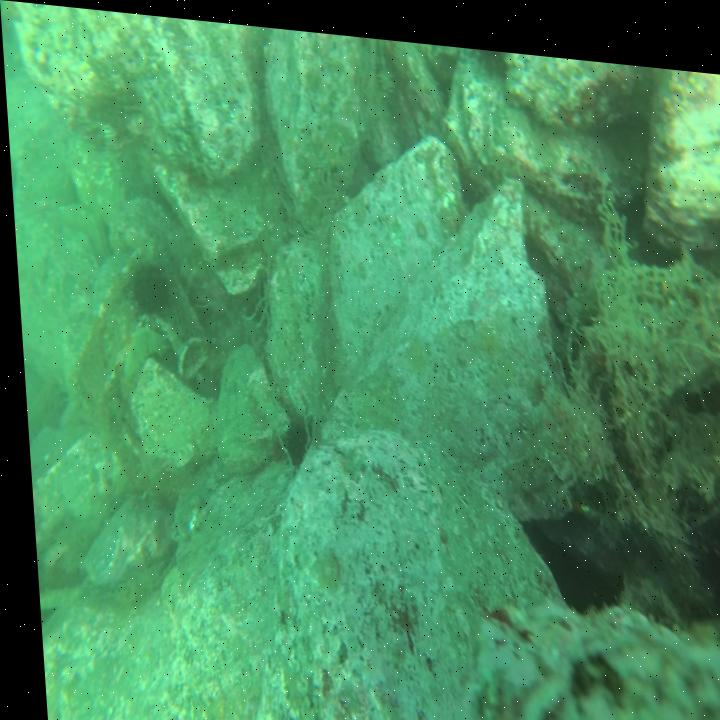echinus: (128, 257, 168, 319)
